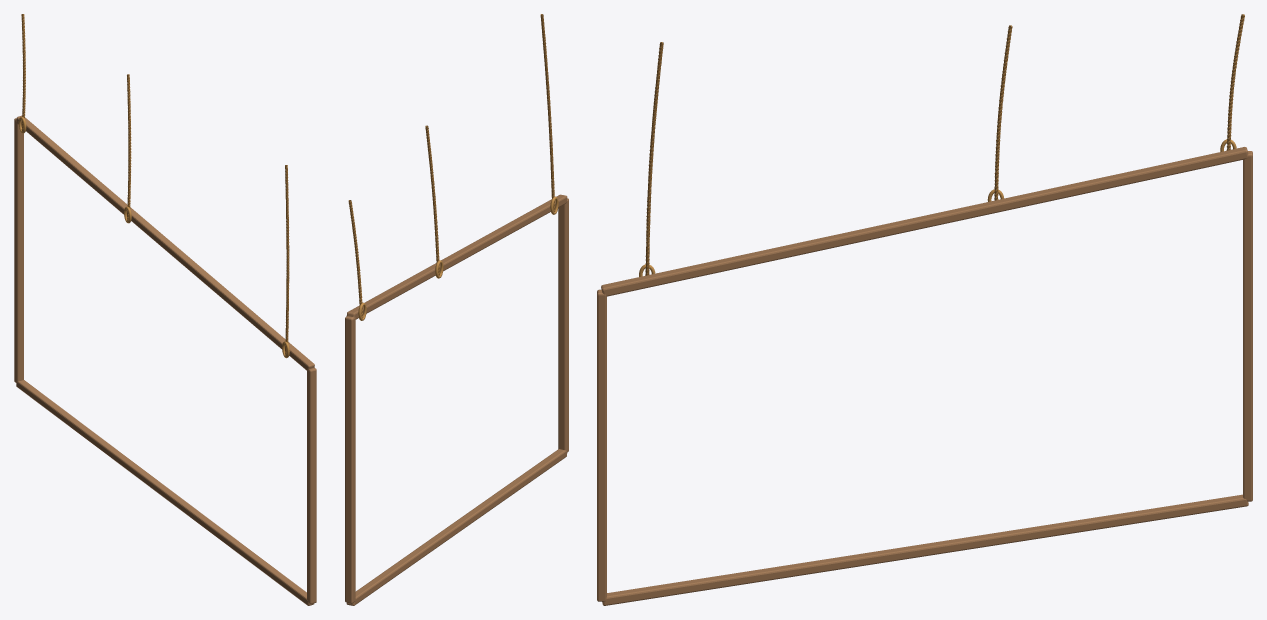
File: SM_Menu_BackdropRigging.fbx
3 views of the same model, side by side, from view 1: azimuth 30°, elevation 25°; view 2: azimuth 150°, elevation 25°; view 3: azimuth 270°, elevation 25° (orthographic). The views are drawn at different scales.
Visible parts, largest first — view 1: Timber.069_Baked; view 2: Timber.069_Baked; view 3: Timber.069_Baked.
Boxes of the visible parts, x1=… form: Timber.069_Baked: x1=14, y1=14, x2=316, y2=605; Timber.069_Baked: x1=345, y1=14, x2=568, y2=605; Timber.069_Baked: x1=597, y1=14, x2=1252, y2=605.
Size of the model in its own units: 94.65 by 720 by 679.
